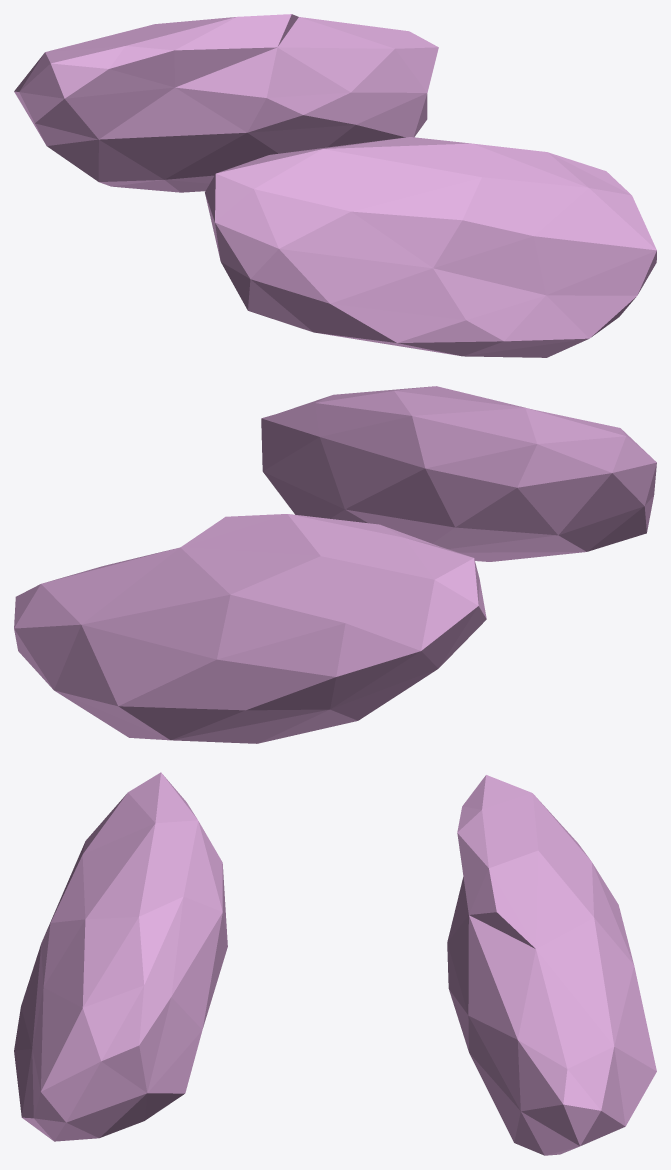
The picture shows the model from 3 angles, top to bottom: view 1: azimuth 30°, elevation 25°; view 2: azimuth 150°, elevation 25°; view 3: azimuth 270°, elevation 25°; orthographic projection. The views are drawn at different scales.
Parts seen in each view (by area): view 1: 35.obj; view 2: 35.obj; view 3: 35.obj.
Boxes of the visible parts, box(x1,y1,x2,y2) form: 35.obj: box(14, 14, 656, 357); 35.obj: box(14, 386, 656, 743); 35.obj: box(14, 772, 656, 1155).
Bounding box in the file's own units: 423 × 198 × 520.
